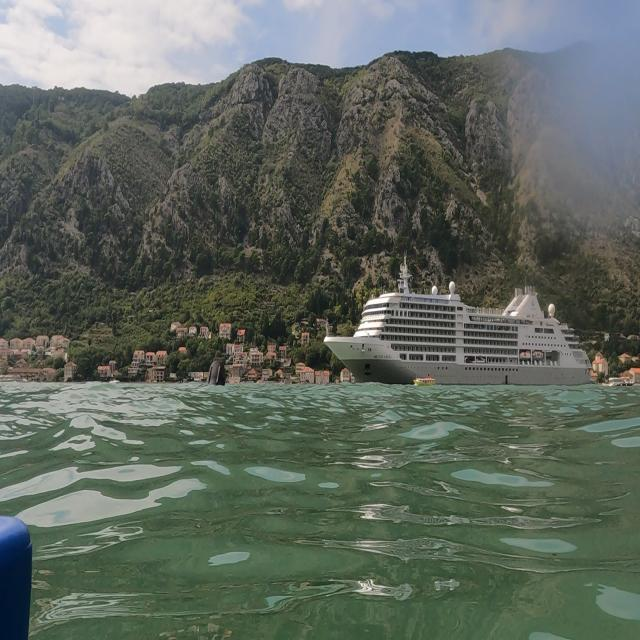boat: (322, 250, 594, 389)
buoy: (200, 351, 233, 397)
